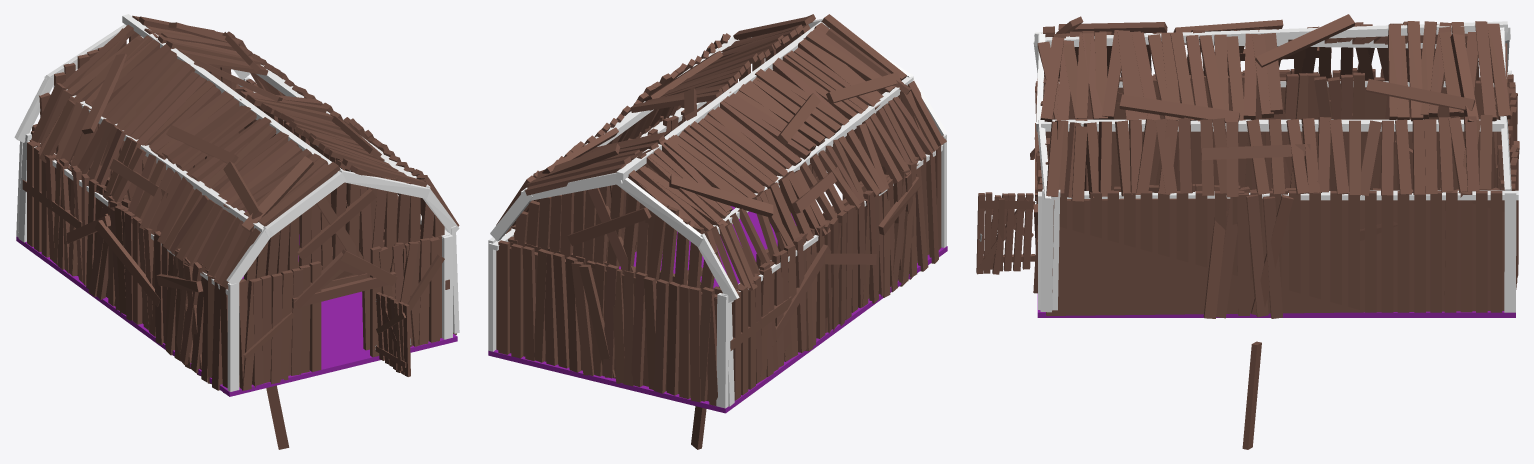
The model's file is model-triangulated.obj.
3 views of the same model, side by side, from view 1: azimuth 30°, elevation 25°; view 2: azimuth 150°, elevation 25°; view 3: azimuth 270°, elevation 25° (orthographic). The views are drawn at different scales.
Visible parts, largest first — view 1: group811914383, group1884363353, group1806814865, group1023159101, group1175048105, group1876746200, group1469235162, group1991387632, group1870386782, group1367199167, group2042495657, group1598160136 (+129 smaller); view 2: group811914383, group1884363353, group1337118923, group1917209537, group1367199167, group121157505, group417414817, group1831316930, group189203291, group1175048105, group1081780574, group334597334 (+134 smaller); view 3: group2098381419, group1193676114, group1884363353, group811914383, group1310476970, group1700154739, group1240554678, group1314737790, group289145928, group630232207, group918661025, group1123283141 (+100 smaller).
Boxes of the visible parts, box(x1,y1,x2,y2) form: group811914383: box(16, 211, 457, 396); group1884363353: box(122, 14, 342, 175); group1806814865: box(227, 283, 239, 391); group1023159101: box(265, 171, 346, 238); group1175048105: box(53, 86, 265, 231); group1876746200: box(270, 273, 282, 384); group1469235162: box(297, 188, 376, 260); group1991387632: box(95, 220, 160, 306); group1870386782: box(442, 235, 452, 339); group1367199167: box(81, 53, 126, 134); group2042495657: box(309, 261, 321, 371); group1598160136: box(241, 156, 313, 232); group811914383: box(488, 206, 947, 413); group1884363353: box(616, 21, 826, 180); group1337118923: box(511, 244, 523, 358); group1917209537: box(653, 279, 668, 393); group1367199167: box(669, 175, 773, 217); group121157505: box(553, 253, 569, 368); group417414817: box(716, 293, 728, 408); group1831316930: box(666, 281, 680, 395); group189203291: box(498, 240, 510, 354); group1175048105: box(713, 76, 913, 233); group1081780574: box(631, 272, 647, 387); group334597334: box(522, 246, 535, 361); group2098381419: box(1046, 198, 1504, 315); group1193676114: box(1058, 77, 1495, 190); group1884363353: box(1045, 21, 1507, 47); group811914383: box(1037, 294, 1515, 317); group1310476970: box(1119, 94, 1239, 123); group1700154739: box(1041, 119, 1504, 131); group1240554678: box(1490, 191, 1502, 312); group1314737790: box(1397, 191, 1409, 312); group289145928: box(1381, 195, 1393, 312); group630232207: box(1504, 191, 1516, 312); group918661025: box(1444, 190, 1457, 312); group1123283141: box(1460, 191, 1472, 312).
Bounding box in the file's own units: 3.88 × 5.46 × 6.53.
